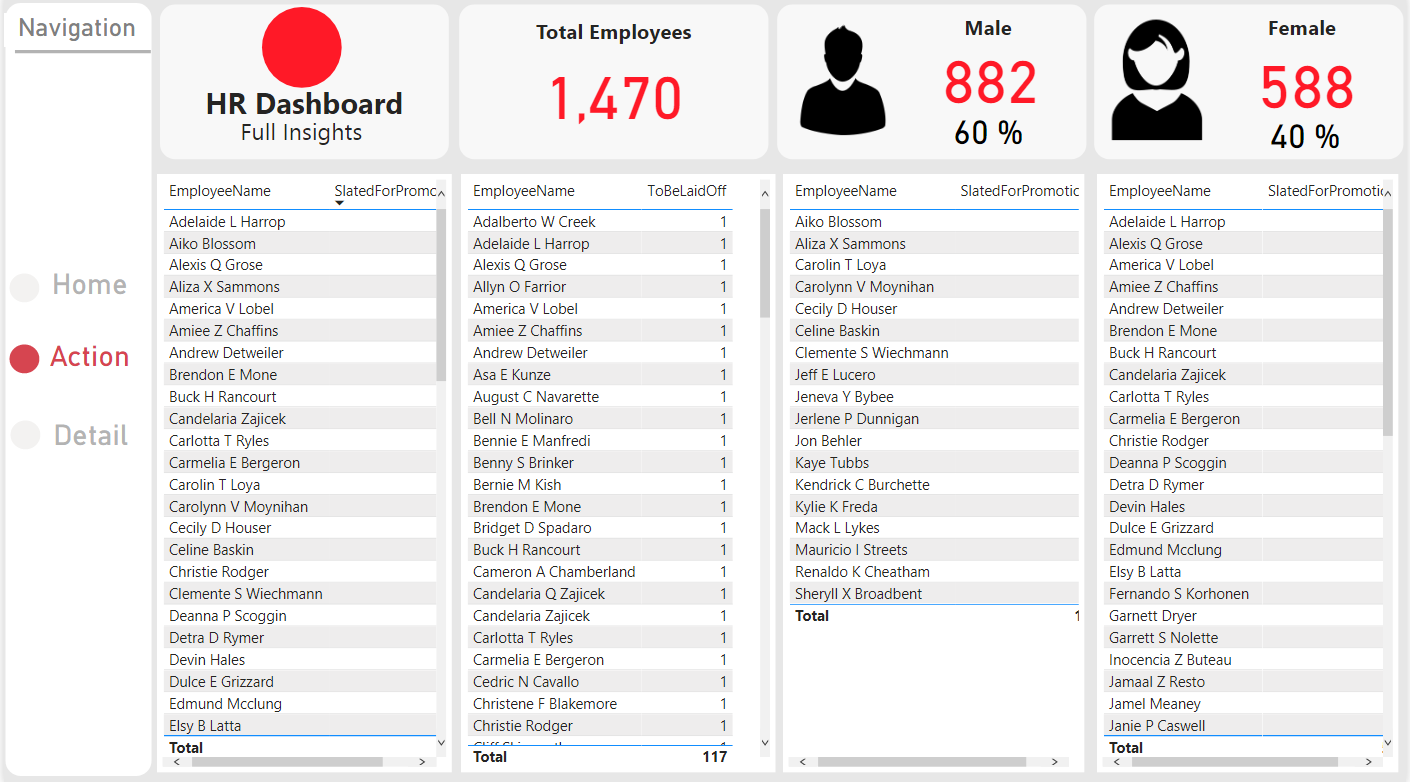

What the dashboard file says about the page in this screenshot:
{"tool":"powerbi","page":{"name":"Action","canvas":[1280,720],"ordinal":1},"visuals":[{"type":"basicShape","box":[0,0,136.1,720],"z":0},{"type":"basicShape","box":[139.9,7.2,268.6,144.1],"z":1000},{"type":"basicShape","box":[412.6,7.2,288.1,144.1],"z":2000},{"type":"basicShape","box":[702.8,7.2,288.1,144.1],"z":3000},{"type":"basicShape","box":[991.9,7.2,288.1,144.1],"z":4000},{"type":"textbox","box":[172.3,74.7,203.1,51],"z":5000},{"type":"textbox","box":[195.2,103.7,152.1,37.8],"z":6000},{"type":"basicShape","box":[232.1,7,80,80.9],"z":7000},{"type":"card","fields":{"Values":["All Measures.Total Emp"]},"box":[412.4,50.6,287.9,72.9],"z":8000},{"type":"textbox","box":[412.4,15.6,287.9,36],"z":9000},{"type":"textbox","box":[809.2,11.7,177,36],"z":10000},{"type":"card","fields":{"Values":["All Measures.Male"]},"box":[809.2,30.2,181.9,84.6],"z":11000},{"type":"card","fields":{"Values":["All Measures.Male %"]},"box":[809.2,104.1,177,37.9],"z":12000},{"type":"image","box":[710,11.7,110.9,130.3],"z":13000},{"type":"card","fields":{"Values":["All Measures.Female"]},"box":[1096.4,34.3,181.9,84.6],"z":14000},{"type":"card","fields":{"Values":["All Measures.Female %"]},"box":[1099.1,108,177,37.9],"z":15000},{"type":"textbox","box":[1096.2,11.7,177,36],"z":16000},{"type":"image","box":[992.1,16.5,119.6,120.6],"z":17000},{"type":"tableEx","fields":{"Values":["Employee.EmployeeName","All Measures.Promoted"]},"box":[139.4,162.9,268.8,545.9],"z":18000},{"type":"tableEx","fields":{"Values":["Employee.EmployeeName","All Measures.Fired"]},"box":[416.6,162.9,287.2,545.9],"z":19000},{"type":"tableEx","fields":{"Values":["Employee.EmployeeName","All Measures.Promoted"]},"box":[710.6,162.9,275.5,545.9],"z":20000},{"type":"tableEx","fields":{"Values":["Employee.EmployeeName","All Measures.Promoted"]},"box":[997.8,162.9,275.5,545.9],"z":21000},{"type":"actionButton","box":[23.5,238.2,109.2,50.4],"z":22000},{"type":"actionButton","box":[23.4,304.2,109.2,50.4],"z":23000},{"type":"actionButton","box":[24.8,375.7,109.2,50.4],"z":24000},{"type":"basicShape","box":[5,387.2,30.2,28.6],"z":25000},{"type":"basicShape","box":[3.4,317.7,30.2,28.6],"z":26000},{"type":"basicShape","box":[3.5,252.5,30.2,28.6],"z":27000},{"type":"basicShape","box":[0,39.3,143.9,25],"z":27001},{"type":"textbox","title":"Navigation","box":[0,16.7,133.2,30.9],"z":27002}]}

Visuals, with their boxes on the page's 1280x720 design canvas (x1, y1, x2, y2). These are canvas units, not pixel positions in the 1410x782 screenshot, which may show the page scaled, cropped or inside an application window:
basicShape: Rect(0, 0, 136, 720)
basicShape: Rect(140, 7, 408, 151)
basicShape: Rect(413, 7, 701, 151)
basicShape: Rect(703, 7, 991, 151)
basicShape: Rect(992, 7, 1280, 151)
textbox: Rect(172, 75, 375, 126)
textbox: Rect(195, 104, 347, 142)
basicShape: Rect(232, 7, 312, 88)
card - All Measures.Total Emp: Rect(412, 51, 700, 124)
textbox: Rect(412, 16, 700, 52)
textbox: Rect(809, 12, 986, 48)
card - All Measures.Male: Rect(809, 30, 991, 115)
card - All Measures.Male %: Rect(809, 104, 986, 142)
image: Rect(710, 12, 821, 142)
card - All Measures.Female: Rect(1096, 34, 1278, 119)
card - All Measures.Female %: Rect(1099, 108, 1276, 146)
textbox: Rect(1096, 12, 1273, 48)
image: Rect(992, 16, 1112, 137)
tableEx - Employee.EmployeeName x All Measures.Promoted: Rect(139, 163, 408, 709)
tableEx - Employee.EmployeeName x All Measures.Fired: Rect(417, 163, 704, 709)
tableEx - Employee.EmployeeName x All Measures.Promoted: Rect(711, 163, 986, 709)
tableEx - Employee.EmployeeName x All Measures.Promoted: Rect(998, 163, 1273, 709)
actionButton: Rect(24, 238, 133, 289)
actionButton: Rect(23, 304, 133, 355)
actionButton: Rect(25, 376, 134, 426)
basicShape: Rect(5, 387, 35, 416)
basicShape: Rect(3, 318, 34, 346)
basicShape: Rect(4, 252, 34, 281)
basicShape: Rect(0, 39, 144, 64)
"Navigation" textbox: Rect(0, 17, 133, 48)
